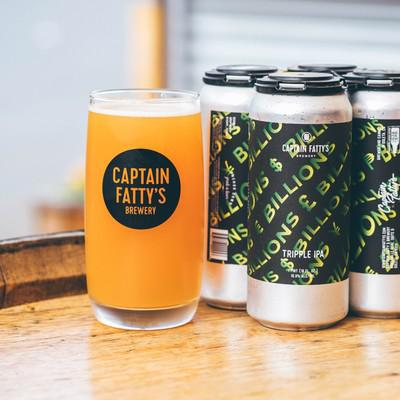beer: (202, 61, 400, 328)
